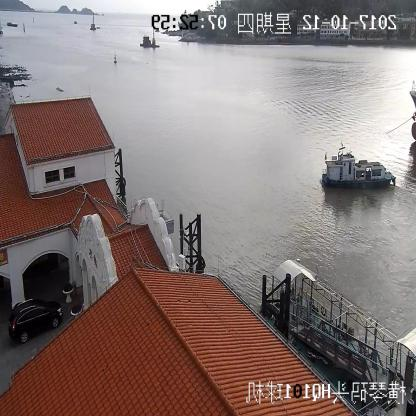Fishing Boat: (322, 147, 397, 187)
